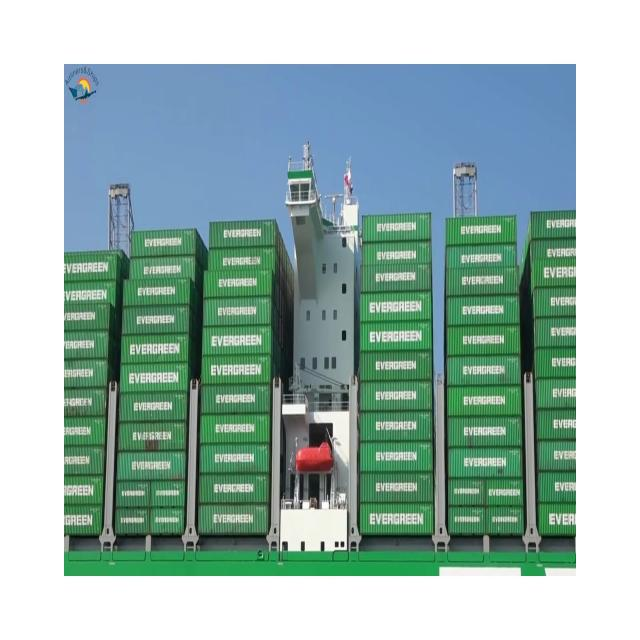OCR: (368, 505, 430, 530)
